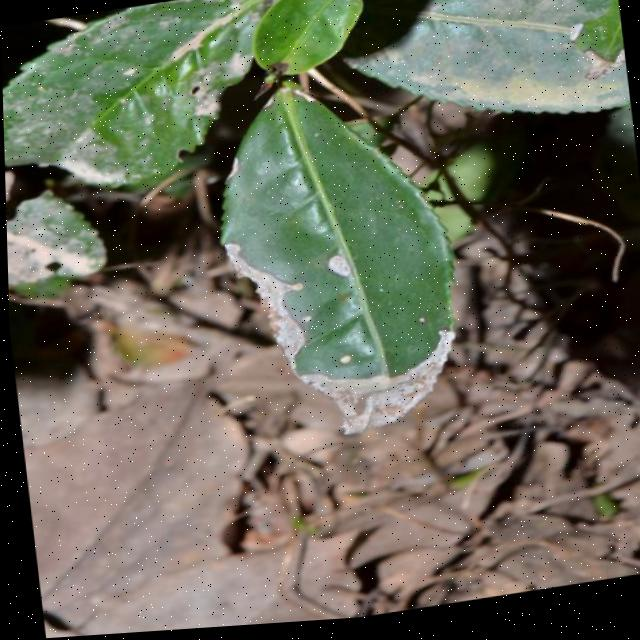Tea cloud leaf blight: (210, 190, 503, 439)
